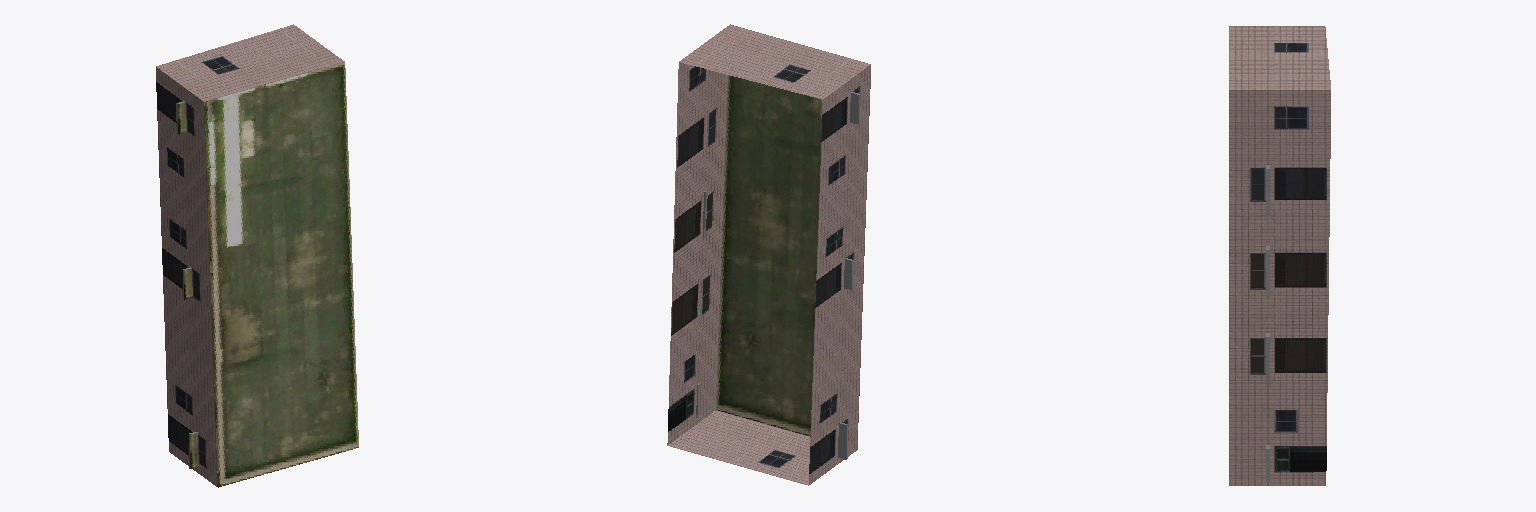
3 views of the same model, side by side, from view 1: azimuth 30°, elevation 25°; view 2: azimuth 150°, elevation 25°; view 3: azimuth 270°, elevation 25° (orthographic).
Parts seen in each view (by area): view 1: Group_MatrixTransform_i95085_Geometry_12, Group_MatrixTransform_i95085_Geometry_4, Group_MatrixTransform_i95085_Geometry_1, Group_MatrixTransform_i95085_Geometry_0; view 2: Group_MatrixTransform_i95085_Geometry_12, Group_MatrixTransform_i95085_Geometry_4, Group_MatrixTransform_i95085_Geometry_1, Group_MatrixTransform_i95085_Geometry_3, Group_MatrixTransform_i95085_Geometry_0, Group_MatrixTransform_i95085_Geometry_2, Group_MatrixTransform_i95085_Geometry_13; view 3: Group_MatrixTransform_i95085_Geometry_3, Group_MatrixTransform_i95085_Geometry_4, Group_MatrixTransform_i95085_Geometry_2, Group_MatrixTransform_i95085_Geometry_1, Group_MatrixTransform_i95085_Geometry_13.
Boxes of the visible parts, <box> form: Group_MatrixTransform_i95085_Geometry_12: <box>204,62,358,487</box>; Group_MatrixTransform_i95085_Geometry_4: <box>156,67,217,486</box>; Group_MatrixTransform_i95085_Geometry_1: <box>156,24,344,101</box>; Group_MatrixTransform_i95085_Geometry_0: <box>159,163,214,412</box>; Group_MatrixTransform_i95085_Geometry_12: <box>716,75,859,436</box>; Group_MatrixTransform_i95085_Geometry_4: <box>675,62,870,484</box>; Group_MatrixTransform_i95085_Geometry_1: <box>668,24,870,485</box>; Group_MatrixTransform_i95085_Geometry_3: <box>670,141,725,344</box>; Group_MatrixTransform_i95085_Geometry_0: <box>811,161,867,411</box>; Group_MatrixTransform_i95085_Geometry_2: <box>667,309,719,445</box>; Group_MatrixTransform_i95085_Geometry_13: <box>696,92,859,459</box>; Group_MatrixTransform_i95085_Geometry_3: <box>1229,209,1329,380</box>; Group_MatrixTransform_i95085_Geometry_4: <box>1229,90,1330,208</box>; Group_MatrixTransform_i95085_Geometry_2: <box>1229,381,1327,485</box>; Group_MatrixTransform_i95085_Geometry_1: <box>1229,26,1330,89</box>; Group_MatrixTransform_i95085_Geometry_13: <box>1266,165,1269,481</box>.
Bounding box in the file's own units: 11.3 × 24.94 × 5.89.
Materials: 14 (14 with a texture image).